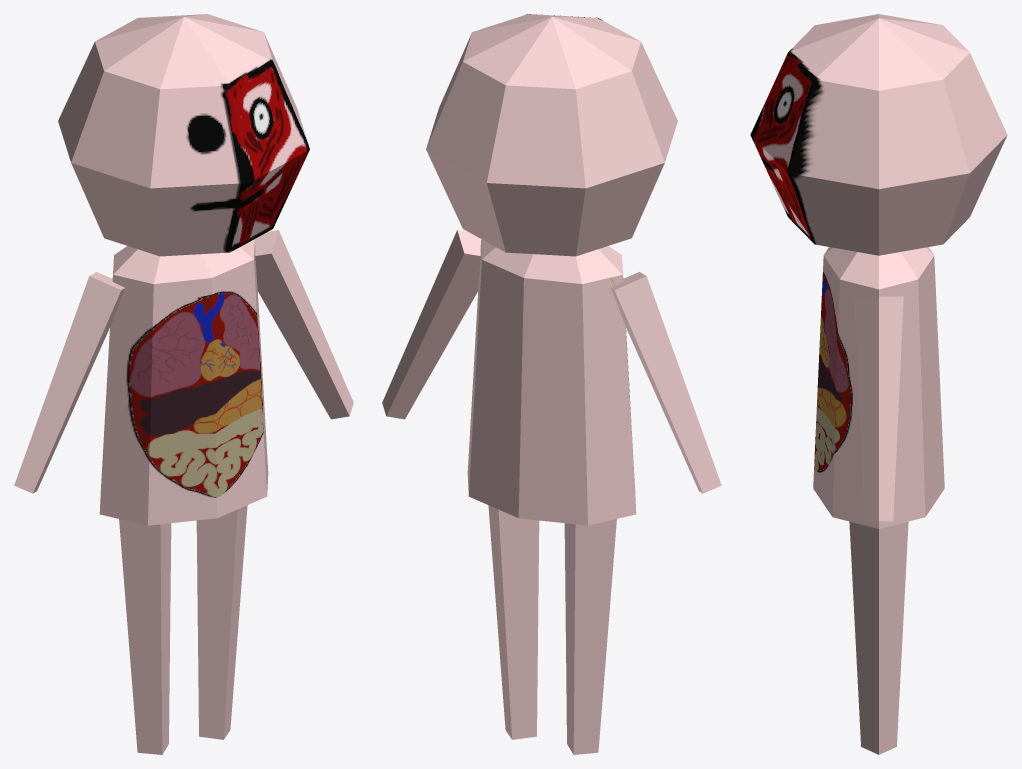
The model's file is body with organs.gltf.
The picture shows the model from 3 angles, left to right: view 1: azimuth 30°, elevation 25°; view 2: azimuth 150°, elevation 25°; view 3: azimuth 270°, elevation 25°; orthographic projection.
Visible parts, largest first — view 1: head, body, right leg, left leg, right arm, left arm; view 2: head, body, right leg, left leg, right arm, left arm; view 3: head, body, left leg, left arm.
Part boxes in pixels (x1,y1,x2,y2): head: (58,14,309,256); body: (99,239,268,525); right leg: (119,519,171,754); left leg: (196,505,247,739); right arm: (14,272,124,493); left arm: (254,230,353,419); head: (426,14,677,256); body: (467,239,636,525); right leg: (564,519,616,754); left leg: (488,505,539,739); right arm: (611,272,721,493); left arm: (382,230,481,419); head: (750,14,1007,255); body: (813,247,944,528); left leg: (849,521,908,754); left arm: (854,296,903,521).
Size of the model in its own units: 3.01 by 6.13 by 2.
Materials: 3 (2 with a texture image).
